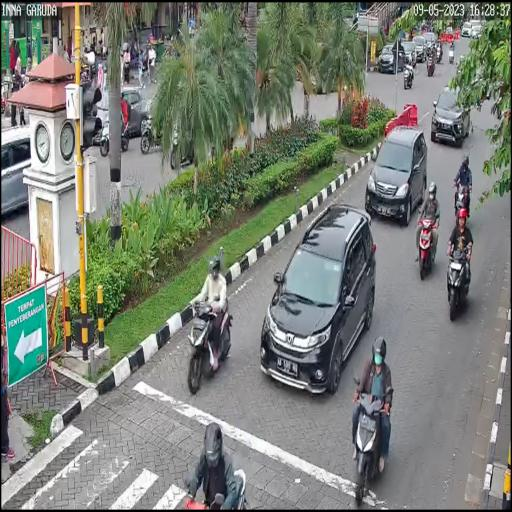mobil: (256, 201, 380, 400), (366, 124, 426, 228), (431, 85, 471, 149)
motor: (349, 374, 393, 512), (184, 288, 238, 397), (447, 235, 474, 322), (415, 208, 441, 282), (450, 178, 473, 215)
